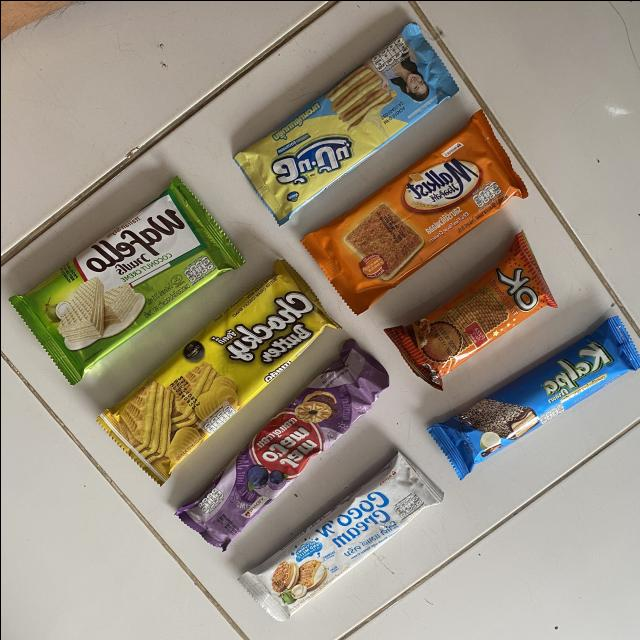plastik: (97, 260, 334, 483), (8, 177, 242, 384), (301, 110, 527, 313), (233, 23, 457, 224), (175, 340, 388, 550), (238, 451, 443, 621), (428, 315, 640, 478), (384, 232, 555, 390)
